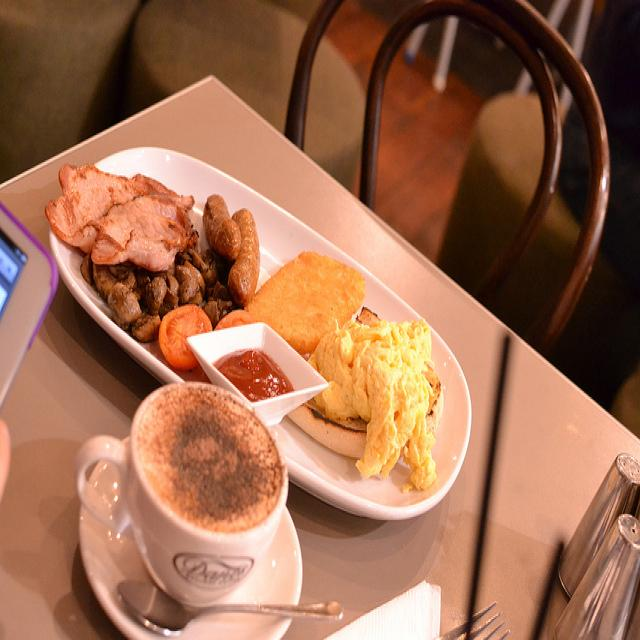chair: (291, 0, 610, 357)
dining table: (5, 83, 622, 630)
